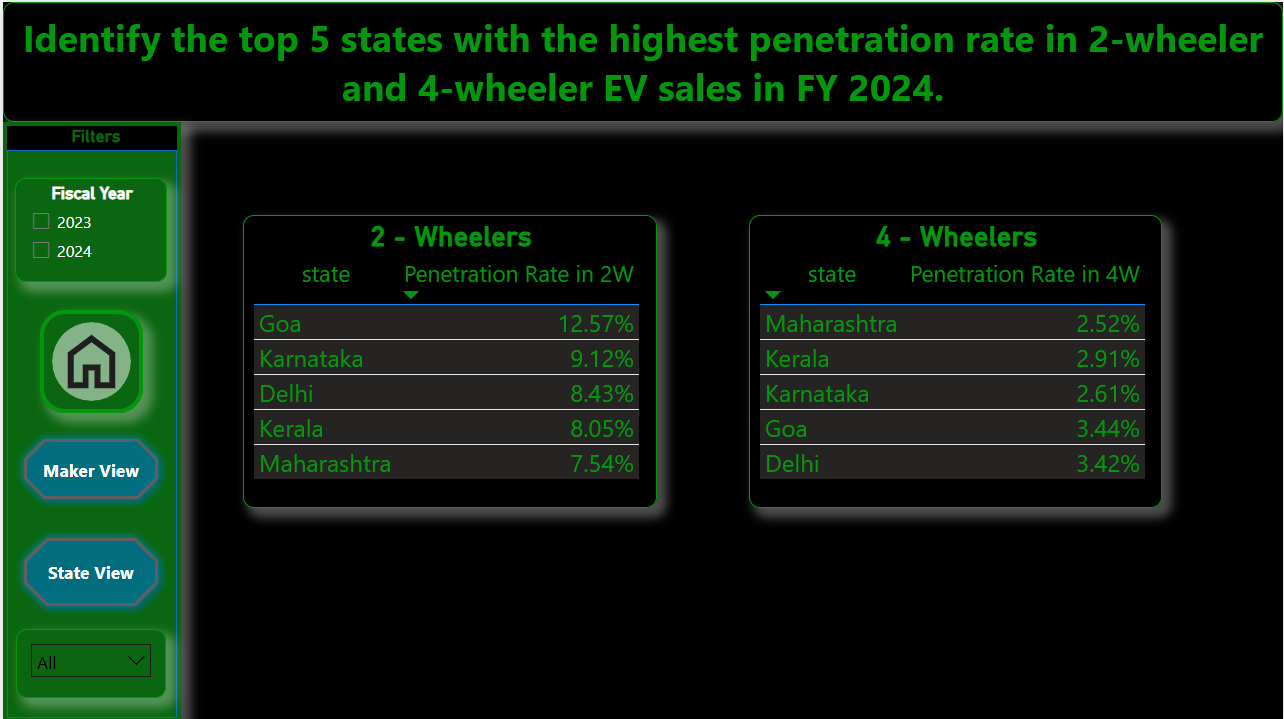

The page's visual inventory and layout, read from the dashboard file:
{"tool":"powerbi","page":{"name":"q-2","canvas":[1280,720],"ordinal":4},"visuals":[{"type":"textbox","box":[0,0,1280,120],"z":0},{"type":"shape","title":"Filters","box":[0,120,177.8,600],"z":1000},{"type":"slicer","title":"Fiscal Year","fields":{"Values":["dim_date.fiscal_year"]},"box":[12.2,175.6,152.2,104.4],"z":2000},{"type":"actionButton","box":[12.2,427.8,152.2,77.8],"z":3000},{"type":"actionButton","box":[36.7,307.8,103.3,103.3],"z":4000},{"type":"actionButton","box":[12.2,526.7,152.2,86.7],"z":5000},{"type":"tableEx","title":"2 - Wheelers","fields":{"Values":["states_2W.state","states_2W.Penetration Rate in 2W"]},"box":[240,213.3,414.4,292.2],"z":6000},{"type":"tableEx","title":"4 - Wheelers","fields":{"Values":["states_4W.state","states_4W.Penetration Rate in 4W"]},"box":[745.6,213.3,413.3,292.2],"z":7000},{"type":"slicer","fields":{"Values":["electric_vehicle_sales_by_makers.vehicle_category"]},"box":[13.3,626.7,150,68.9],"z":8000}]}

Visuals, with their boxes in screenshot pixels (x1, y1, x2, y2), scaled from the page's 1280x720 canvas onto the 1284x719 screenshot:
textbox: bbox=[0, 0, 1283, 120]
"Filters" shape: bbox=[0, 120, 178, 718]
"Fiscal Year" slicer: bbox=[12, 175, 165, 280]
actionButton: bbox=[12, 427, 165, 505]
actionButton: bbox=[37, 307, 140, 411]
actionButton: bbox=[12, 526, 165, 613]
"2 - Wheelers" tableEx: bbox=[241, 213, 656, 505]
"4 - Wheelers" tableEx: bbox=[748, 213, 1163, 505]
slicer - electric_vehicle_sales_by_makers.vehicle_category: bbox=[13, 626, 164, 695]
